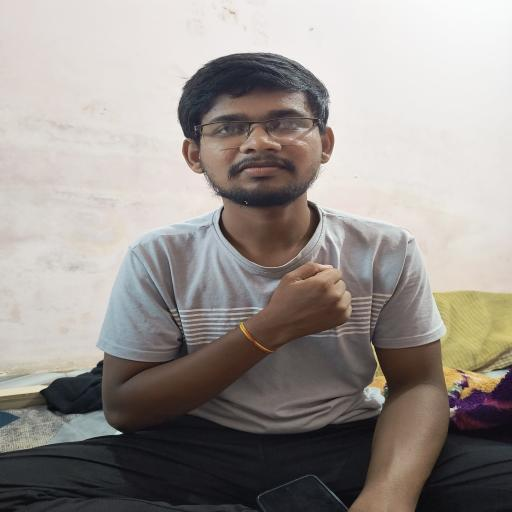Understood: (82, 210, 375, 452)
